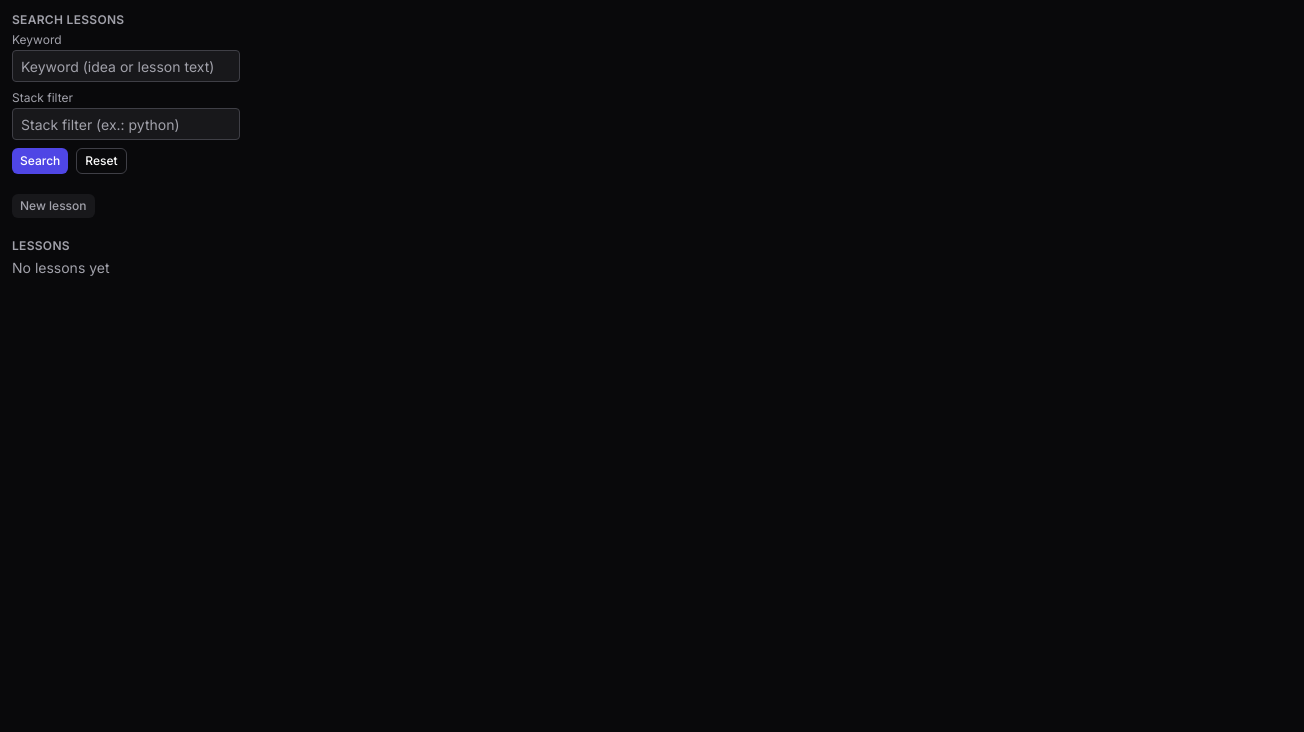
Test case: MemoryPanel (lições aprendidas) › disables Add lesson while the lesson text is empty
Check: the text "No lessons yet" is shown, box [12,259,110,276]
Click the button "New lesson" at point(53, 206), box [12,194,94,218]
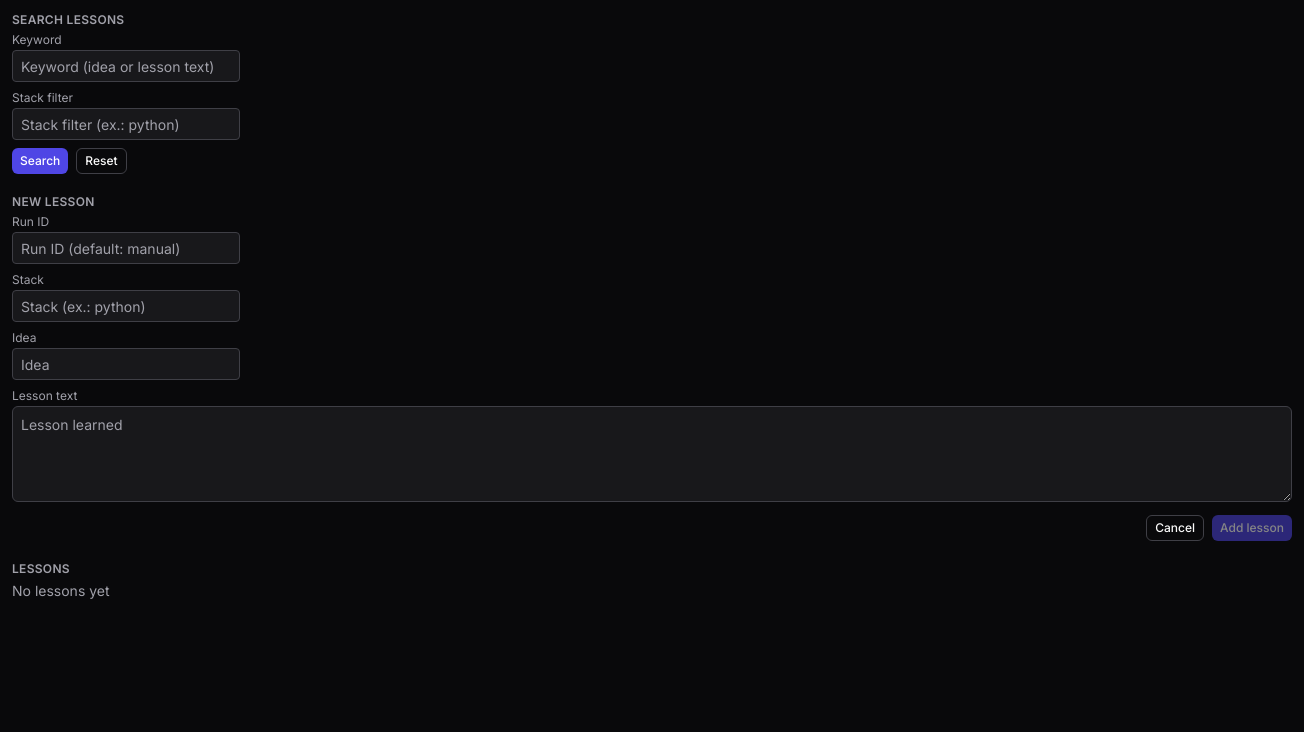
Check: the button "Add lesson" is disabled, box [1212,515,1292,541]
